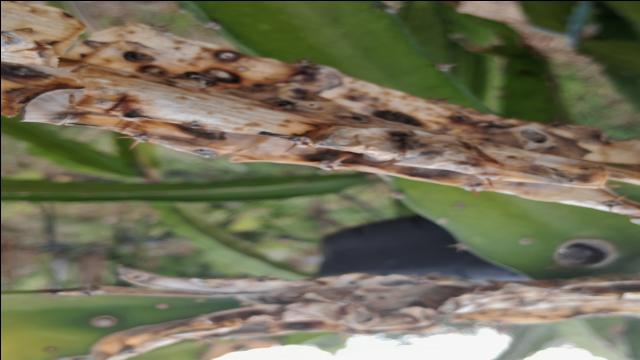stemcanker: (555, 237, 616, 269), (70, 311, 119, 331)
